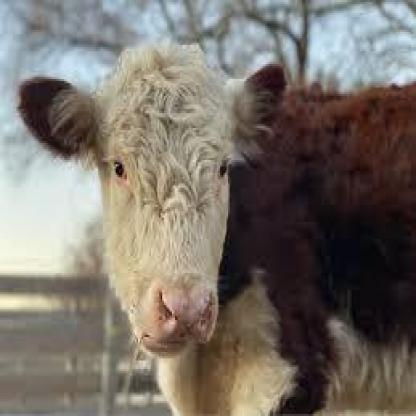cow: (22, 53, 416, 416)
